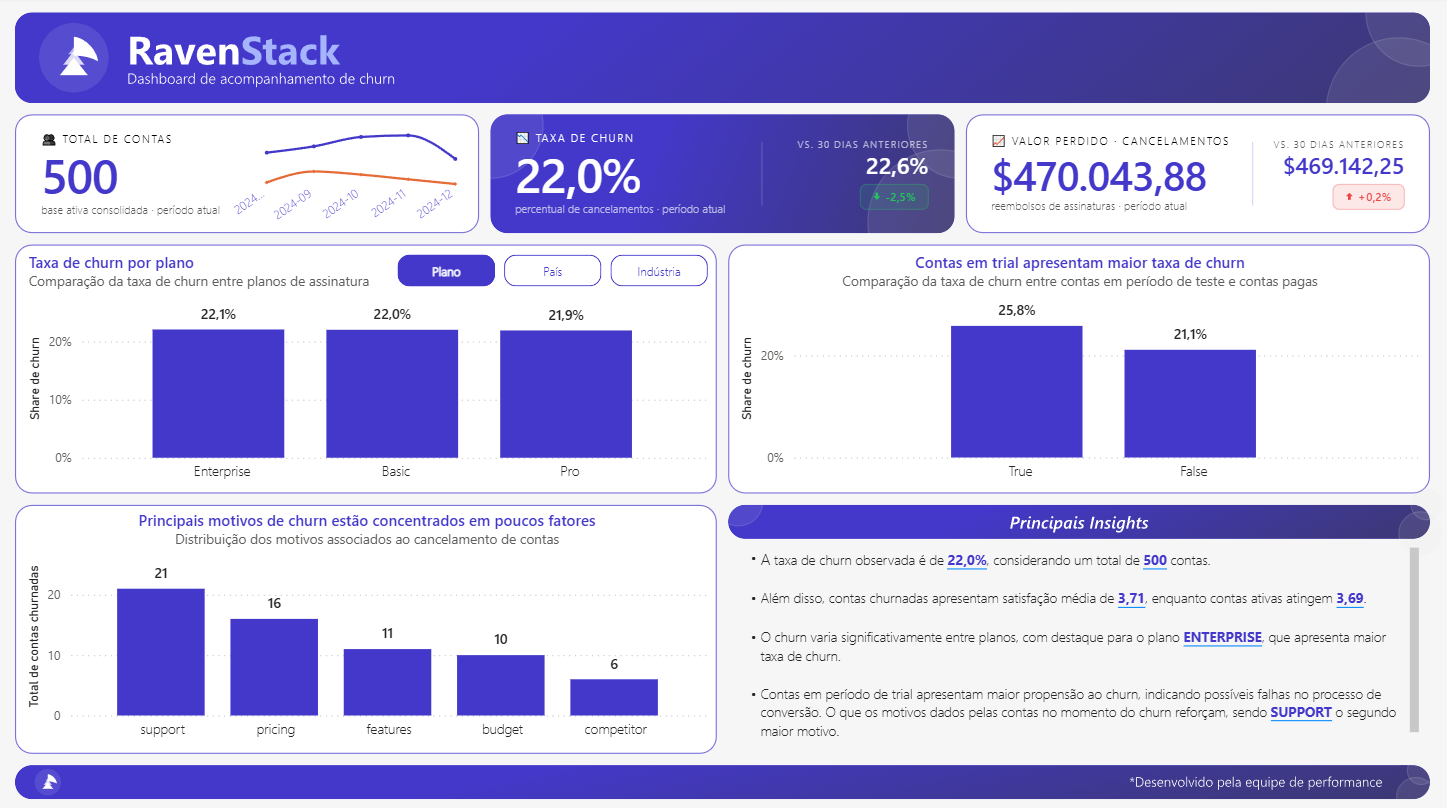

Layout of this report page (visuals, bound fields, positions):
{"tool":"powerbi","page":{"name":"Painel","canvas":[1280,720],"ordinal":0},"visuals":[{"type":"textbox","box":[649.8,481.2,610.2,183.5],"z":0},{"type":"clusteredColumnChart","fields":{"Category":["ravenstack_account_gold.plan"],"Y":["_Medidas (2).%_churn"]},"box":[21.6,224.9,610.8,211.8],"z":1000},{"type":"clusteredColumnChart","title":"Contas em trial apresentam maior taxa de churn","fields":{"Y":["_Medidas (2).%_churn"],"Category":["ravenstack_account_gold.is_trial"]},"box":[650.8,225,609.5,211.5],"z":2000},{"type":"clusteredColumnChart","title":"Principais motivos de churn estão concentrados em poucos fatores","fields":{"Category":["ravenstack_account_gold.reason"],"Y":["_Medidas (2).Total_contas_churnadas"]},"box":[21.5,453.6,609.5,211.5],"z":3000},{"type":"advancedSlicerVisual","fields":{"Values":["Paramentos.Selecao"]},"box":[347.8,222.3,285.9,38.5],"z":4000},{"type":"htmlContent443BE3AD55E043BF878BED274D3A6855","fields":{"content":["_Medidas (2).HTML_Churn_Card"]},"box":[429.4,98.2,422.1,115.6],"z":5000},{"type":"htmlContent443BE3AD55E043BF878BED274D3A6855","fields":{"content":["_Medidas (2).HTML_Uso_Card"]},"box":[850.8,98.8,422.6,115.8],"z":6000},{"type":"htmlContent443BE3AD55E043BF878BED274D3A6855","fields":{"content":["_Medidas (2).HTML_Contas_Card"]},"box":[10.7,98.6,427.1,115],"z":7000},{"type":"lineChart","fields":{"Y":["_Medidas (2).Total_contas","_Medidas (2).Total_contas_churnadas"],"Category":["Calendario.Mes_ano_1"]},"box":[165.7,97.9,240,110],"z":8000}]}

Visuals, with their boxes in screenshot pixels (x1, y1, x2, y2), scaled from the page's 1280x720 canvas onto the 1447x808 screenshot:
textbox: region(735, 540, 1424, 746)
clusteredColumnChart - ravenstack_account_gold.plan x _Medidas (2).%_churn: region(24, 252, 715, 490)
"Contas em trial apresentam maior taxa de churn" clusteredColumnChart: region(736, 252, 1425, 490)
"Principais motivos de churn estão concentrados em poucos fatores" clusteredColumnChart: region(24, 509, 713, 746)
advancedSlicerVisual - Paramentos.Selecao: region(393, 249, 716, 293)
htmlContent443BE3AD55E043BF878BED274D3A6855 - _Medidas (2).HTML_Churn_Card: region(485, 110, 963, 240)
htmlContent443BE3AD55E043BF878BED274D3A6855 - _Medidas (2).HTML_Uso_Card: region(962, 111, 1440, 241)
htmlContent443BE3AD55E043BF878BED274D3A6855 - _Medidas (2).HTML_Contas_Card: region(12, 111, 495, 240)
lineChart - _Medidas (2).Total_contas x _Medidas (2).Total_contas_churnadas: region(187, 110, 459, 233)
